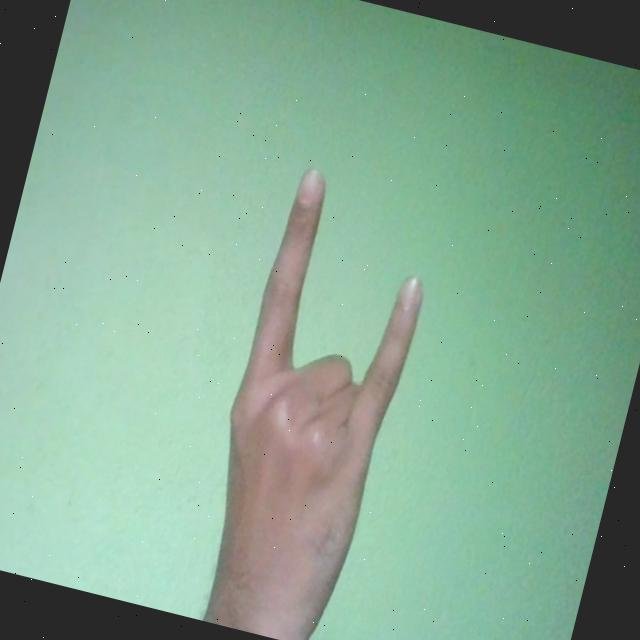open Plam: (178, 163, 446, 640)
